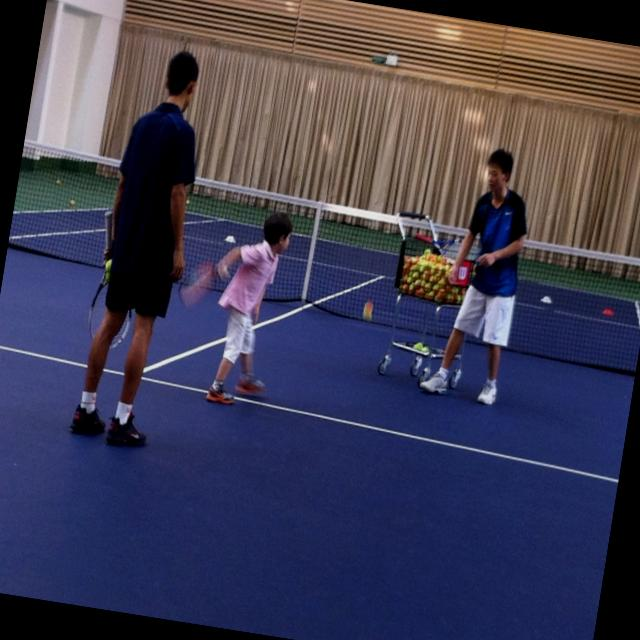Tennis Ball: (397, 248, 470, 310), (422, 344, 432, 356), (414, 342, 424, 352), (105, 260, 112, 272), (56, 177, 63, 186), (104, 272, 110, 282), (70, 200, 75, 206), (184, 200, 188, 207)
